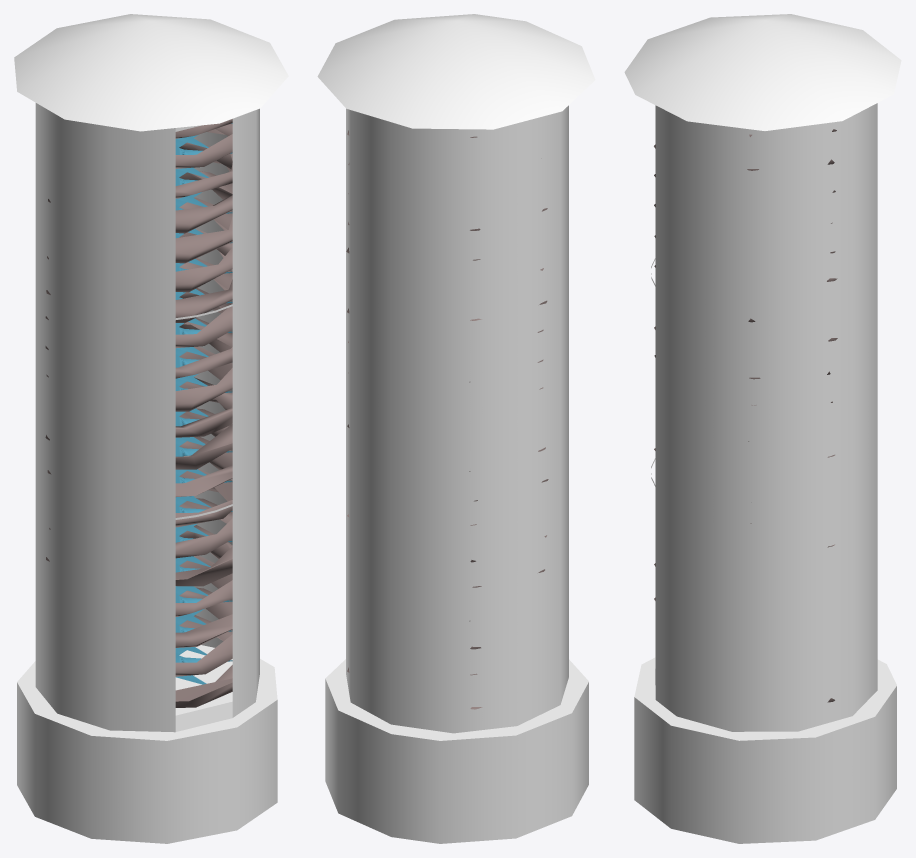
The model's file is Flywheel_Tower-LOD0.glb.
The picture shows the model from 3 angles, left to right: view 1: azimuth 30°, elevation 25°; view 2: azimuth 150°, elevation 25°; view 3: azimuth 270°, elevation 25°; orthographic projection.
Parts seen in each view (by area): view 1: FlywheelTower_LOD0, FlywheelSpokes_LOD0; view 2: FlywheelTower_LOD0; view 3: FlywheelTower_LOD0.
Part boxes in pixels (x1=…): FlywheelTower_LOD0: x1=14, y1=14, x2=288, y2=843; FlywheelSpokes_LOD0: x1=45, y1=119, x2=232, y2=707; FlywheelTower_LOD0: x1=317, y1=14, x2=595, y2=843; FlywheelTower_LOD0: x1=624, y1=14, x2=901, y2=843.
Size of the model in its own units: 7.31 by 22.35 by 7.31.
